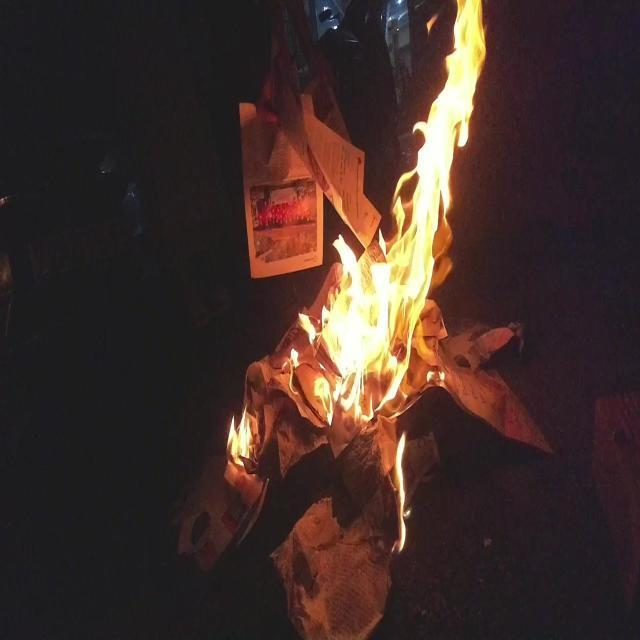Fire: (271, 0, 486, 428), (390, 431, 415, 560), (226, 398, 259, 468)
